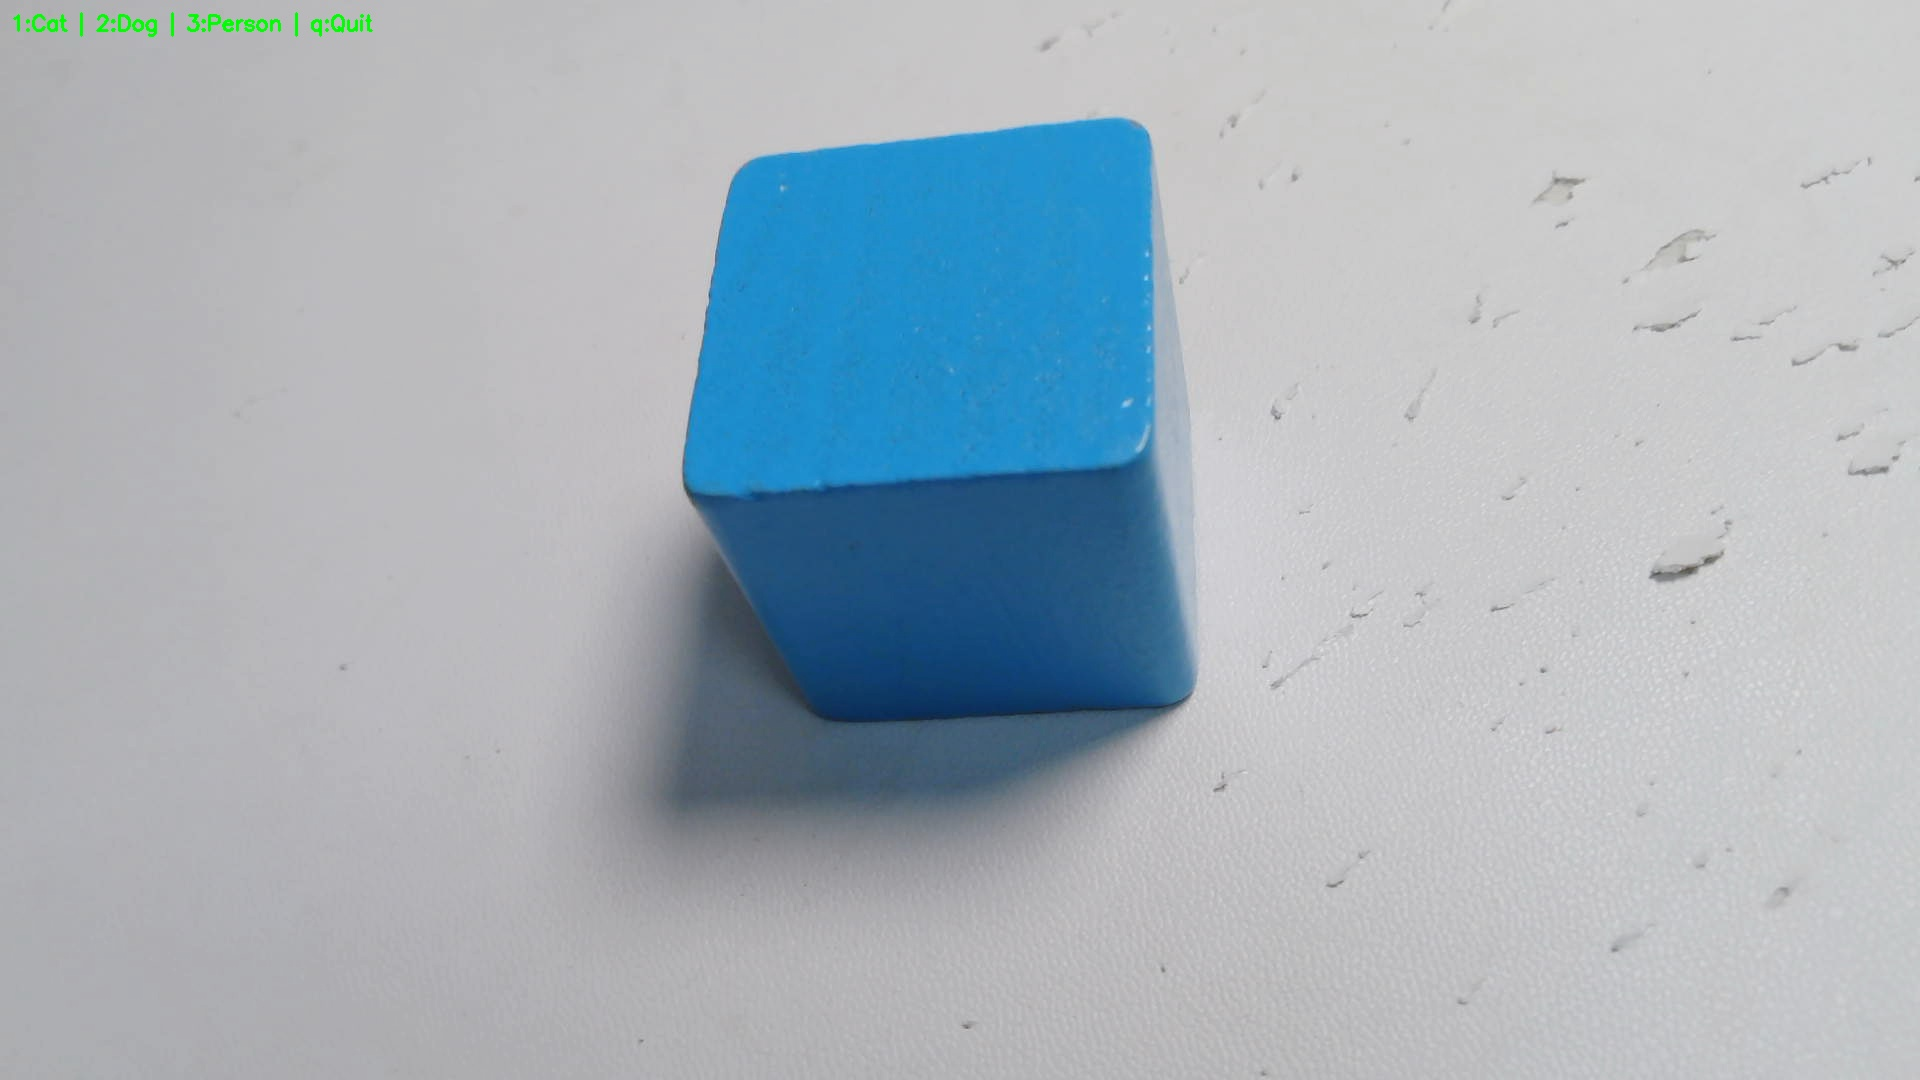blue: (680, 120, 1203, 727)
